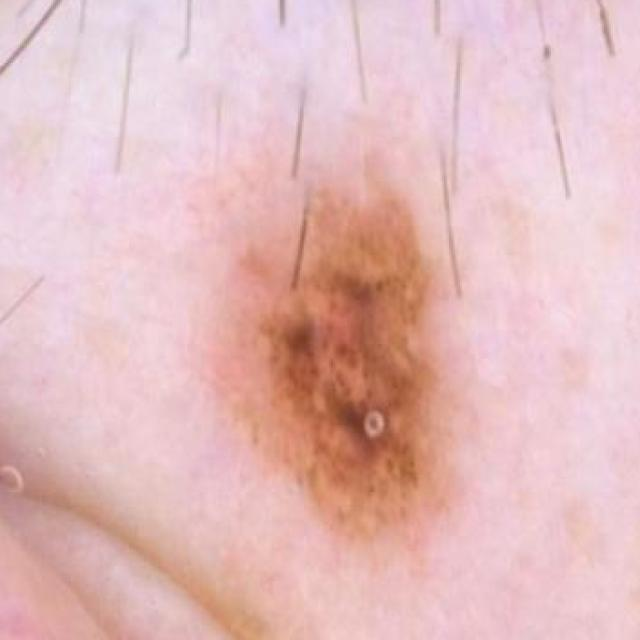NV: (211, 183, 470, 539)
